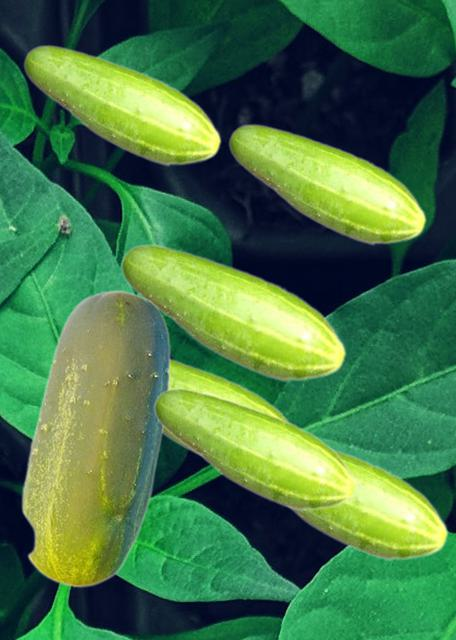cucumber: (20, 289, 169, 587), (120, 243, 346, 382), (153, 387, 356, 511), (23, 44, 221, 166), (228, 123, 426, 245), (289, 447, 448, 561), (163, 356, 289, 458)
